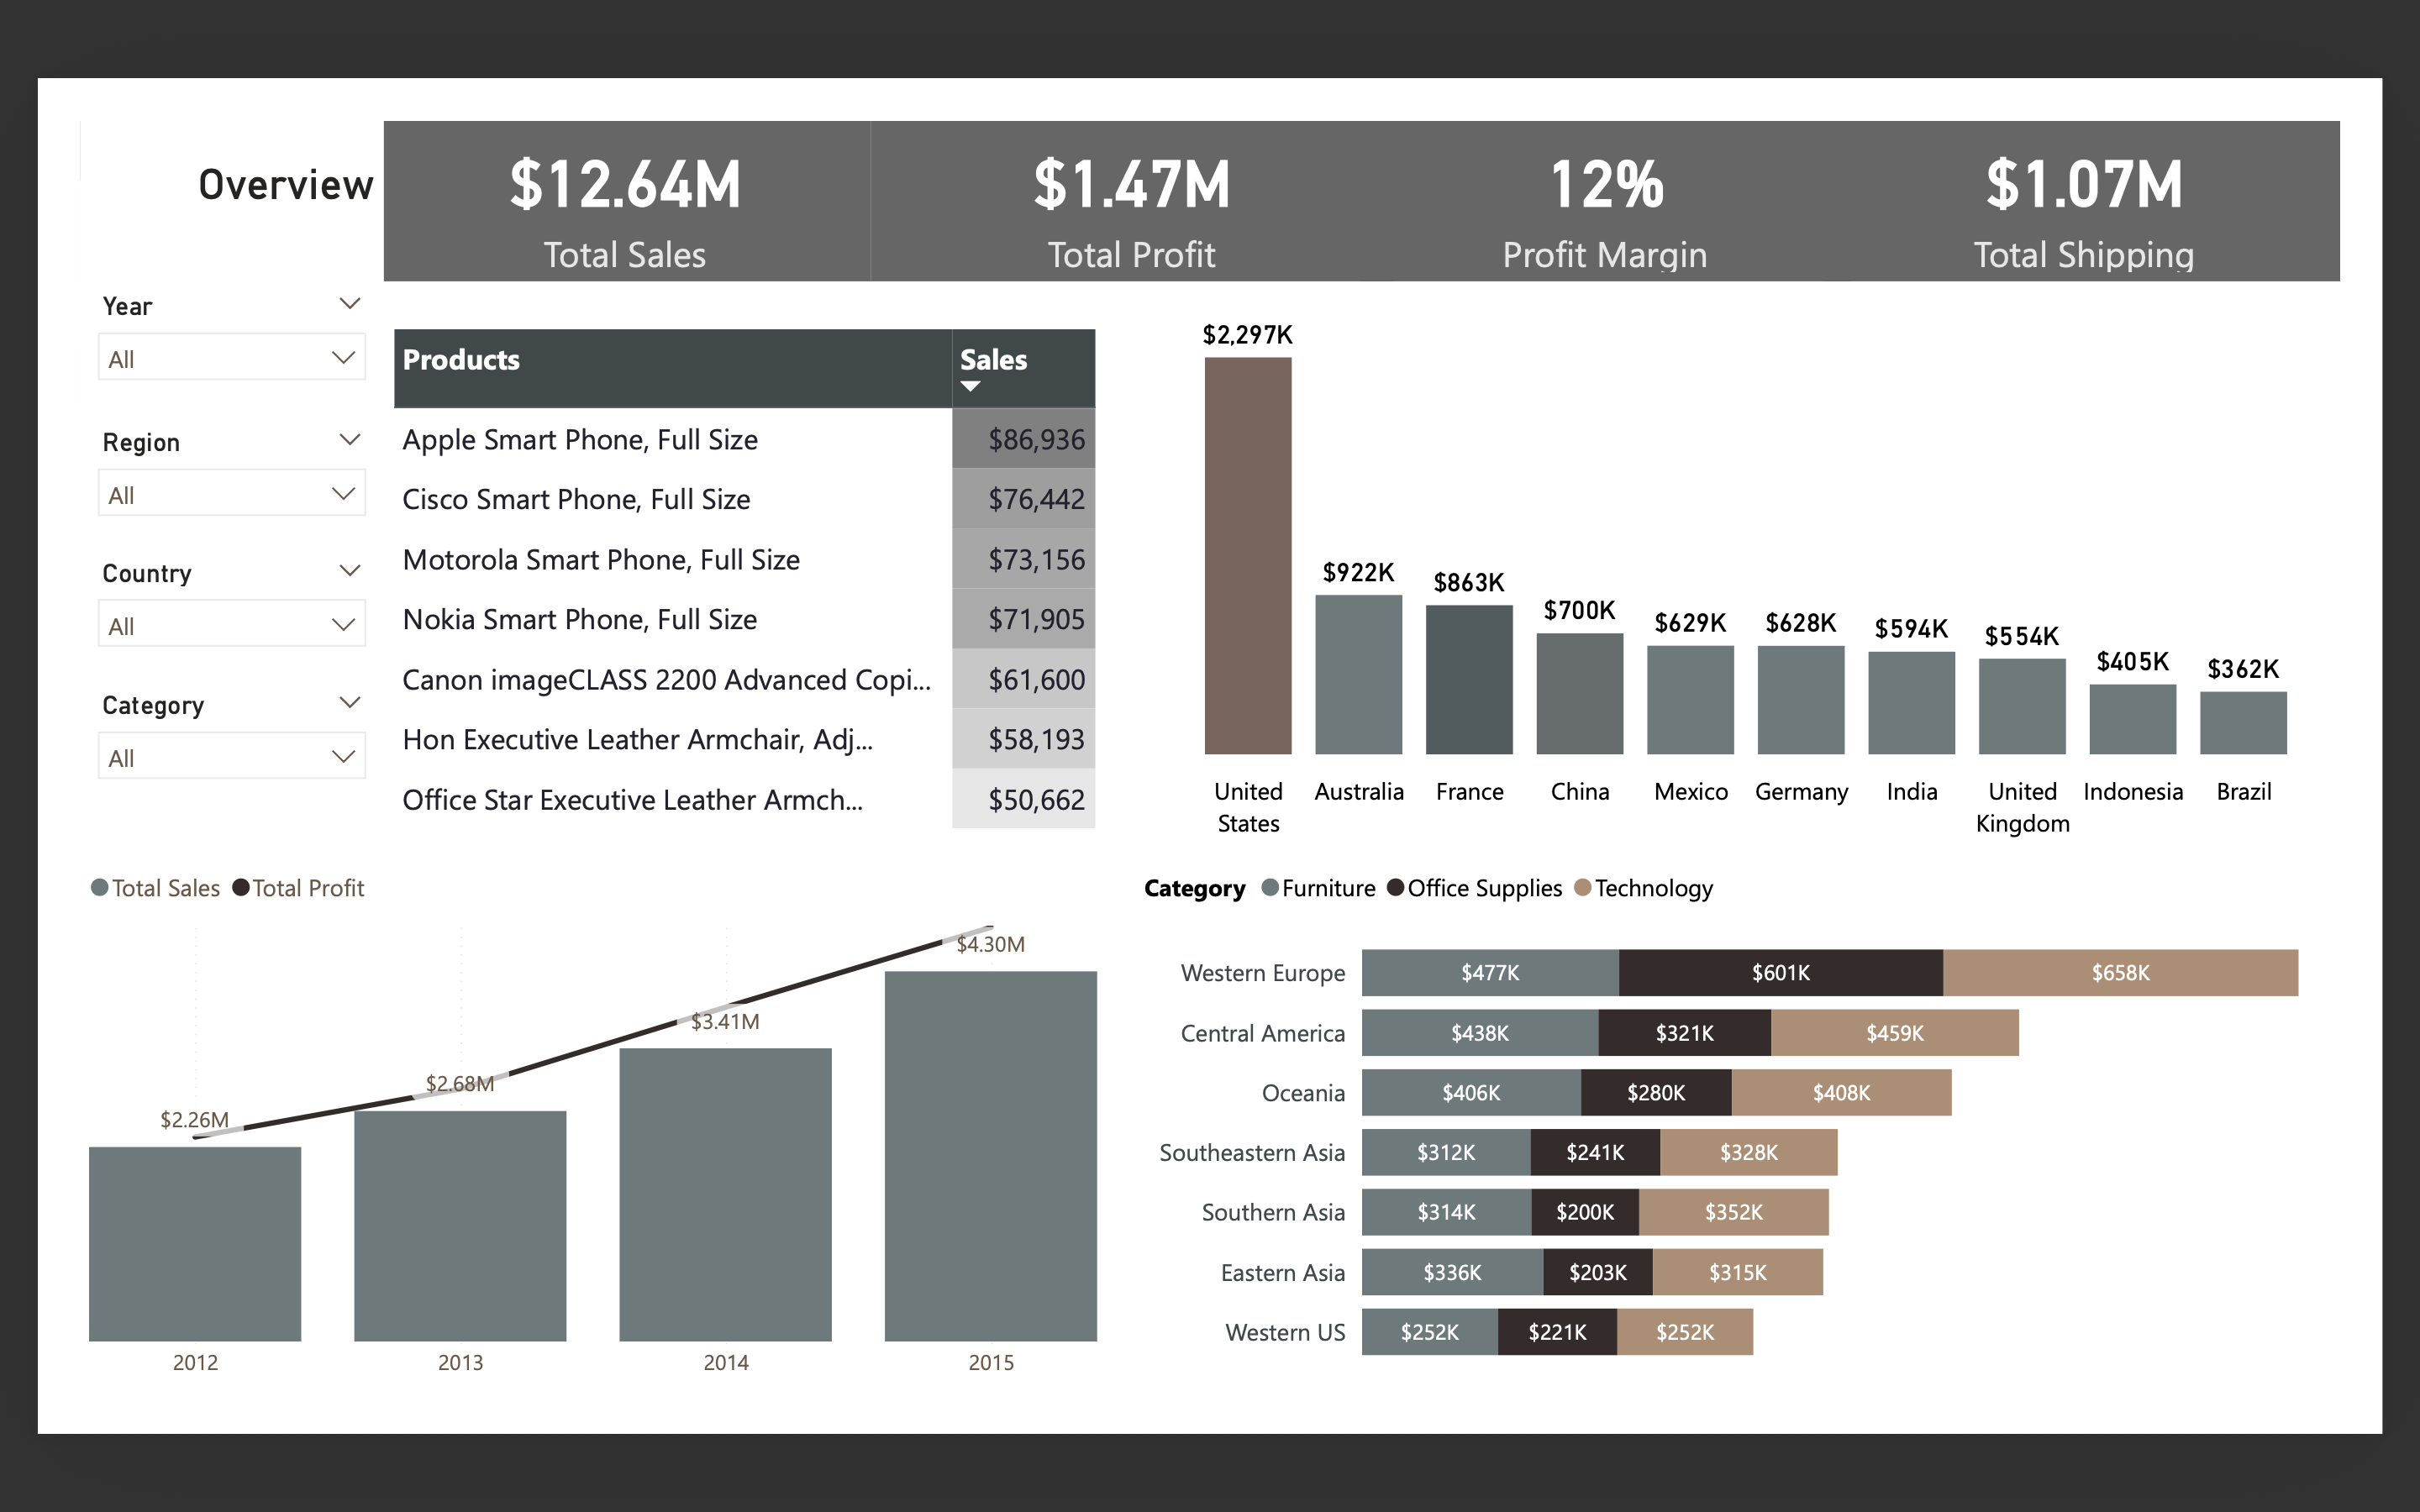

Layout of this report page (visuals, bound fields, positions):
{"tool":"powerbi","page":{"name":"Overview","canvas":[1280,720],"ordinal":0},"visuals":[{"type":"card","fields":{"Values":["_calc.Total Sales"]},"box":[170.3,0,277.6,90.5],"z":0,"group":"g1"},{"type":"lineStackedColumnComboChart","fields":{"Category":["Date.Year"],"Y":["Sum(Orders.Sales)"],"Y2":["Sum(Orders.Profit)"]},"box":[0,414.3,581.4,307.3],"z":0},{"type":"card","fields":{"Values":["_calc.Total Profit"]},"box":[447.5,0,296,90.5],"z":1000,"group":"g1"},{"type":"tableEx","fields":{"Values":["Products.Short Name","Sum(Orders.Sales)"]},"box":[172.1,113.5,409.2,302.2],"z":1000},{"type":"card","fields":{"Values":["_calc.Profit Margin %"]},"box":[725.5,0,277.6,90.5],"z":2000,"group":"g1"},{"type":"barChart","fields":{"Category":["Adresses.Region"],"Y":["Sum(Orders.Sales)"],"Series":["Products.Category"]},"box":[597.9,414.3,683.3,304.7],"z":2000},{"type":"group","id":"g1","title":"Group 1","box":[0,0,1282.5,130],"z":3000},{"type":"card","fields":{"Values":["_calc.Total Shiping"]},"box":[988,0,294.5,90.5],"z":3000,"group":"g1"},{"type":"columnChart","title":"Sales by Country","fields":{"Category":["Adresses.Country"],"Y":["Sum(Orders.Sales)"]},"box":[597.9,95.6,683.3,318.7],"z":4000},{"type":"slicer","fields":{"Values":["Products.Category"]},"box":[0,318.2,172.1,77.1],"z":5000,"group":"g2"},{"type":"slicer","fields":{"Values":["Date.Year"]},"box":[0,91.8,172.1,77.1],"z":6000,"group":"g2"},{"type":"slicer","fields":{"Values":["Adresses.Country"]},"box":[0,242.7,172.1,75.5],"z":7000,"group":"g2"},{"type":"slicer","fields":{"Values":["Adresses.Region"]},"box":[0,168.9,172.1,73.8],"z":8000,"group":"g2"},{"type":"group","id":"g2","title":"Group 2","box":[0,91.8,172.1,303.4],"z":8001},{"type":"textbox","box":[0,0,172.1,130],"z":8002,"group":"g1"}]}

Visuals, with their boxes on the page's 1280x720 design canvas (x1, y1, x2, y2). These are canvas units, not pixel positions in the 2420x1512 screenshot, which may show the page scaled, cropped or inside an application window:
card - _calc.Total Sales: l=170, t=0, r=448, b=90
lineStackedColumnComboChart - Date.Year x Sum(Orders.Sales): l=0, t=414, r=581, b=722
card - _calc.Total Profit: l=448, t=0, r=744, b=90
tableEx - Products.Short Name x Sum(Orders.Sales): l=172, t=114, r=581, b=416
card - _calc.Profit Margin %: l=726, t=0, r=1003, b=90
barChart - Adresses.Region x Sum(Orders.Sales): l=598, t=414, r=1281, b=719
"Group 1" group: l=0, t=0, r=1282, b=130
card - _calc.Total Shiping: l=988, t=0, r=1282, b=90
"Sales by Country" columnChart: l=598, t=96, r=1281, b=414
slicer - Products.Category: l=0, t=318, r=172, b=395
slicer - Date.Year: l=0, t=92, r=172, b=169
slicer - Adresses.Country: l=0, t=243, r=172, b=318
slicer - Adresses.Region: l=0, t=169, r=172, b=243
"Group 2" group: l=0, t=92, r=172, b=395
textbox: l=0, t=0, r=172, b=130
